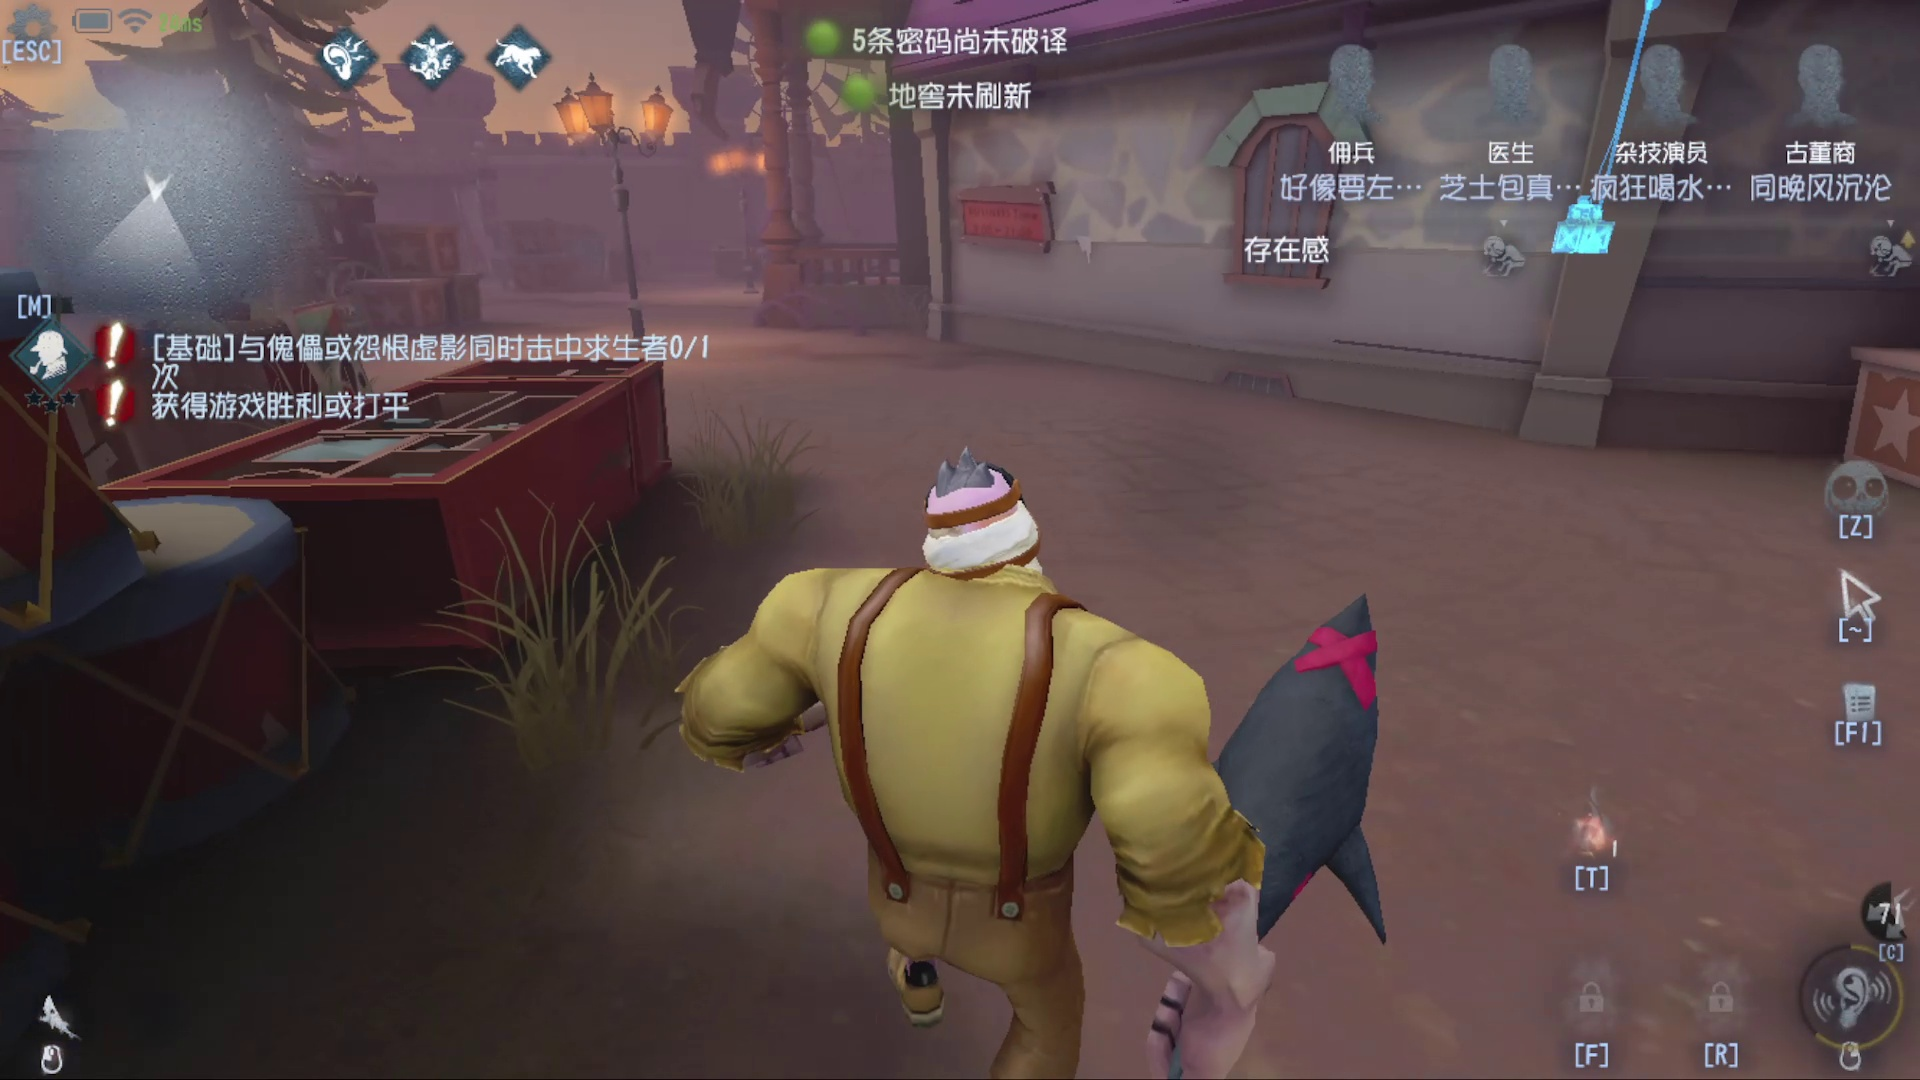密码机: (1545, 5, 1698, 277)
